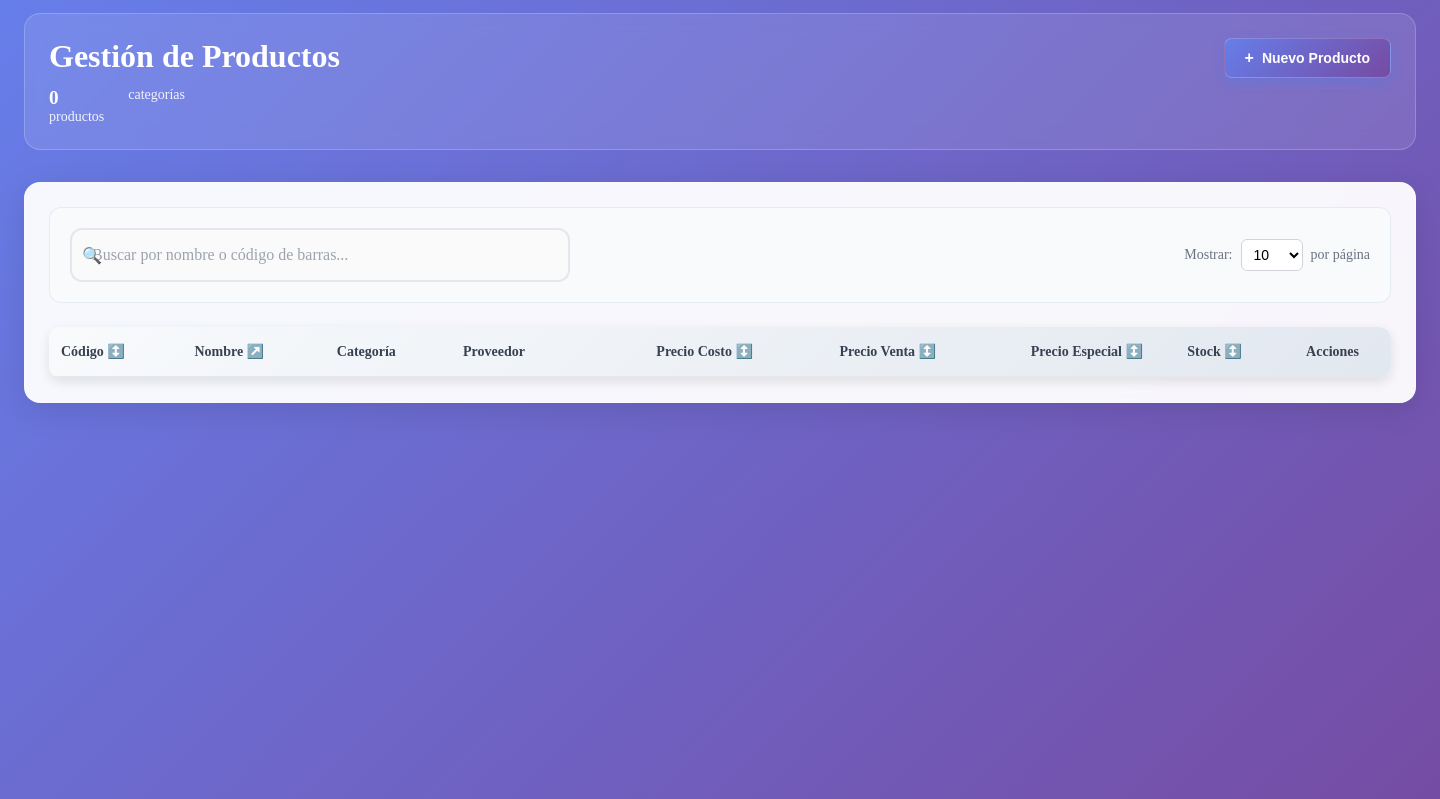
Scenario: ProductosModerno Page › opens create product modal
Click the button "+ Nuevo Producto": coordinates (1307, 58) [1224, 38, 1391, 78]
(page scrolled)
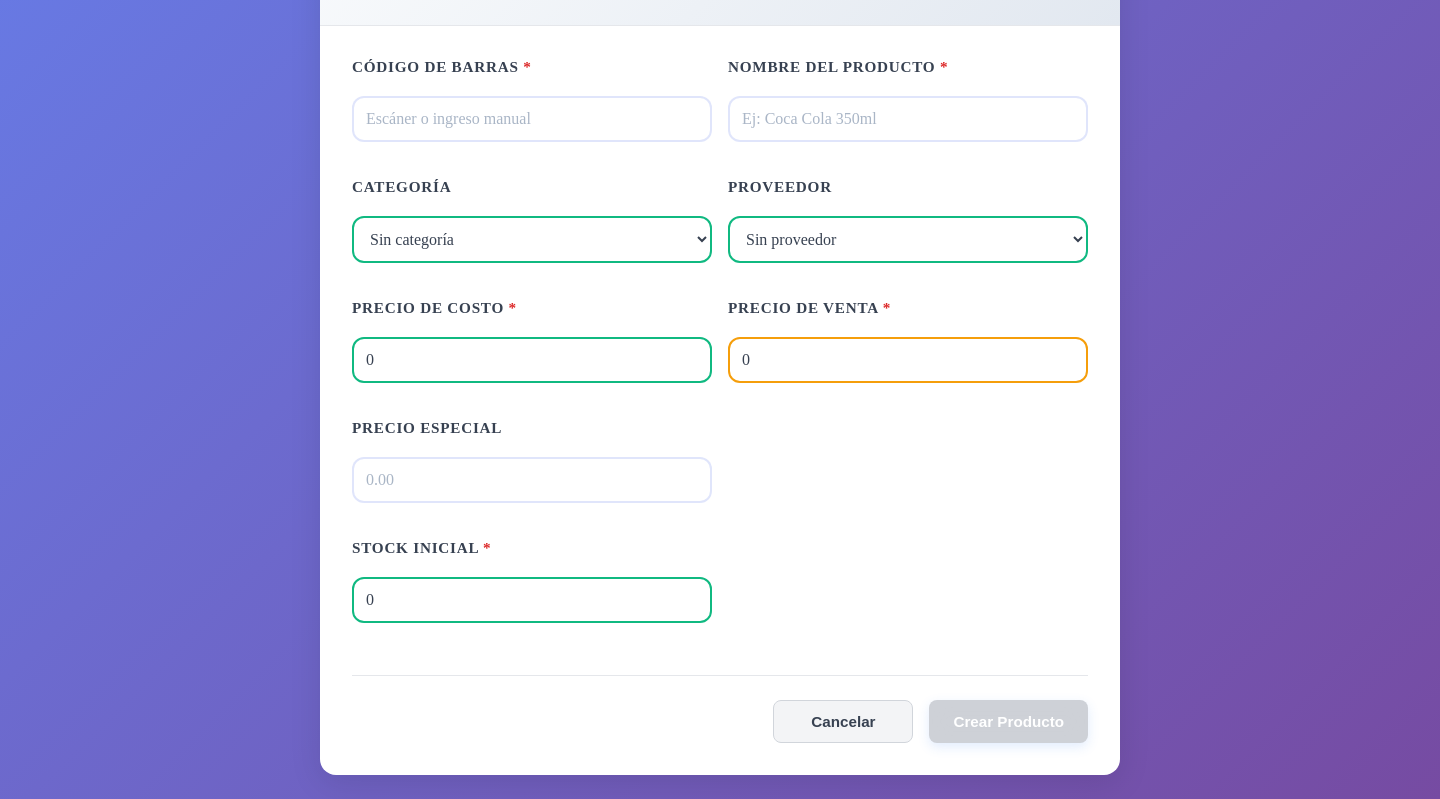
Result: the button "Crear Producto" is shown at [929, 700, 1088, 743]
